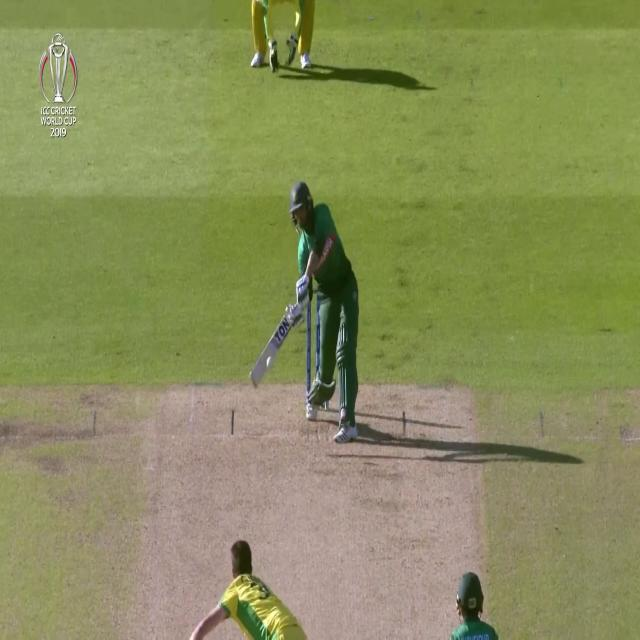ball: (265, 356, 274, 371)
